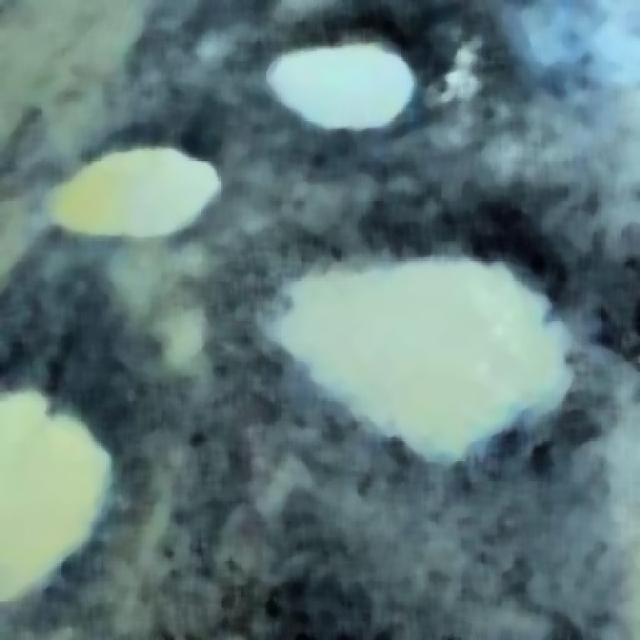Pothole: (286, 228, 585, 442), (0, 338, 109, 636), (265, 21, 430, 148), (53, 112, 201, 236)
